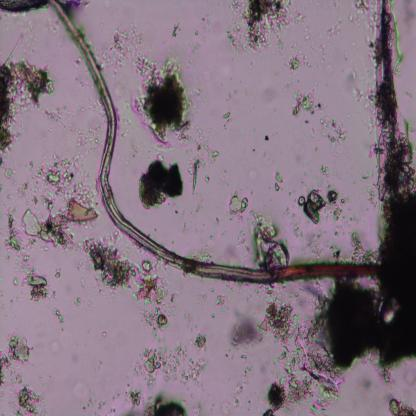Background material: (317, 0, 416, 366), (263, 283, 336, 416), (18, 162, 102, 249), (0, 33, 55, 163), (130, 51, 194, 149), (227, 0, 299, 55), (80, 234, 135, 294), (139, 339, 206, 386), (134, 261, 178, 332), (136, 153, 186, 211), (249, 211, 290, 269), (294, 181, 341, 219), (105, 26, 145, 68), (0, 332, 30, 384), (226, 313, 265, 351), (71, 377, 109, 412), (5, 209, 28, 265), (344, 225, 376, 265), (145, 389, 192, 416), (229, 352, 252, 406), (72, 118, 104, 156), (352, 168, 378, 210), (12, 385, 47, 415), (316, 112, 346, 146), (22, 270, 50, 304), (290, 91, 323, 118), (353, 0, 377, 32), (0, 0, 51, 13), (48, 108, 79, 129), (227, 192, 250, 216), (189, 158, 203, 196), (388, 398, 416, 416), (200, 14, 214, 48), (356, 376, 375, 400), (166, 18, 185, 40), (125, 385, 142, 408), (202, 142, 218, 166), (377, 372, 396, 392), (299, 15, 312, 43), (402, 365, 414, 392), (287, 55, 304, 74), (319, 160, 334, 181), (223, 105, 236, 128), (272, 169, 284, 191), (194, 332, 208, 350), (70, 290, 84, 306), (53, 308, 65, 326), (8, 273, 22, 285), (5, 165, 16, 179), (52, 343, 64, 355), (104, 333, 109, 338)
Microfibre: (51, 0, 378, 286)
